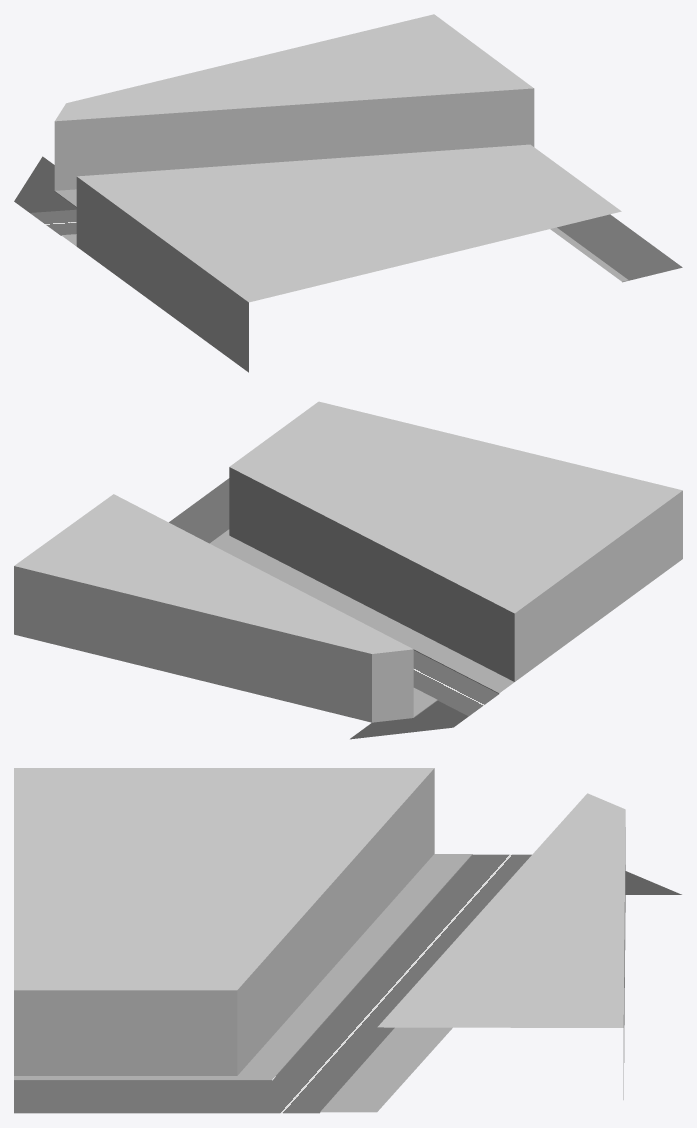
The model's file is estepa.glb.
The picture shows the model from 3 angles, top to bottom: view 1: azimuth 30°, elevation 25°; view 2: azimuth 150°, elevation 25°; view 3: azimuth 270°, elevation 25°; orthographic projection. The views are drawn at different scales.
Parts seen in each view (by area): view 1: Cube, Road, Sidewalk; view 2: Cube, Road, Sidewalk; view 3: Cube, Road, Sidewalk.
Boxes of the visible parts, x1=… form: Cube: x1=54, y1=14, x2=621, y2=372; Road: x1=14, y1=156, x2=682, y2=280; Sidewalk: x1=54, y1=189, x2=628, y2=282; Cube: x1=14, y1=401, x2=682, y2=722; Road: x1=169, y1=478, x2=498, y2=739; Sidewalk: x1=210, y1=529, x2=514, y2=717; Cube: x1=14, y1=768, x2=625, y2=1099; Road: x1=14, y1=854, x2=681, y2=1113; Sidewalk: x1=14, y1=854, x2=472, y2=1112.
Size of what is drawn, in the model's own units: 64.16 by 10 by 70.
4 materials, 1 textured.
